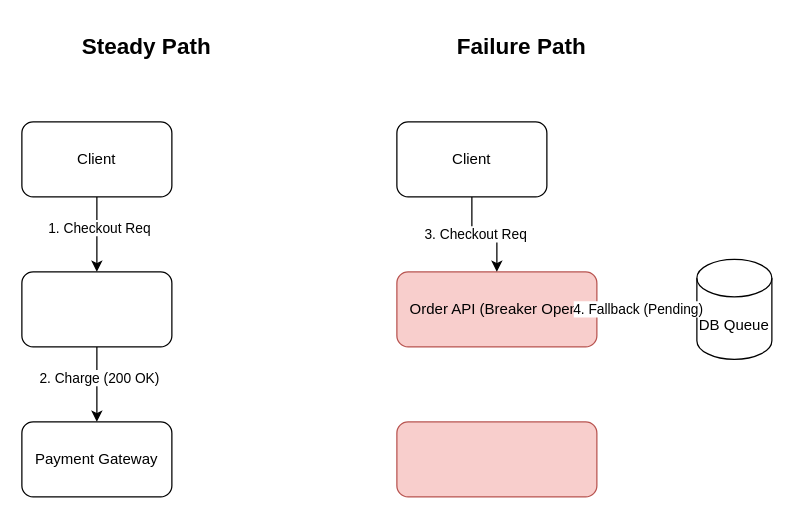
This 794x519 diagram has some shape labels left out. The shapes that lost their labels are listed below. From the top down, each one's centre as x and y in pixels, then its label:
pixel 96 309: Order API
pixel 496 459: Payment Gateway (Down)
